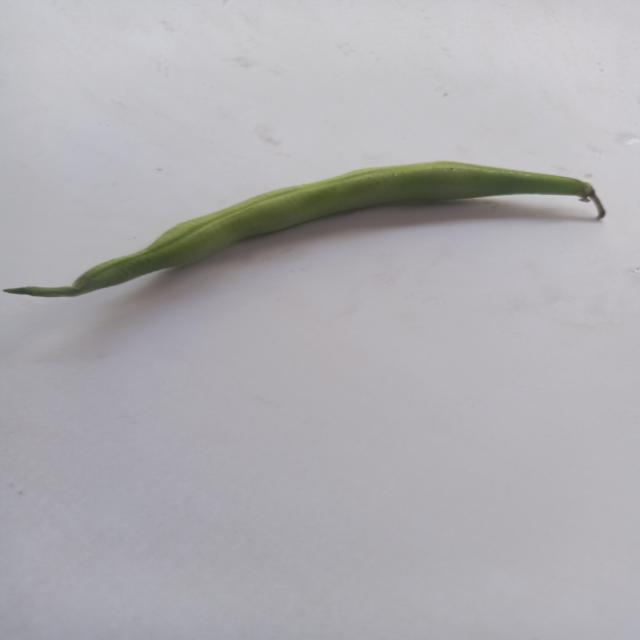Beans: (11, 154, 614, 323)
